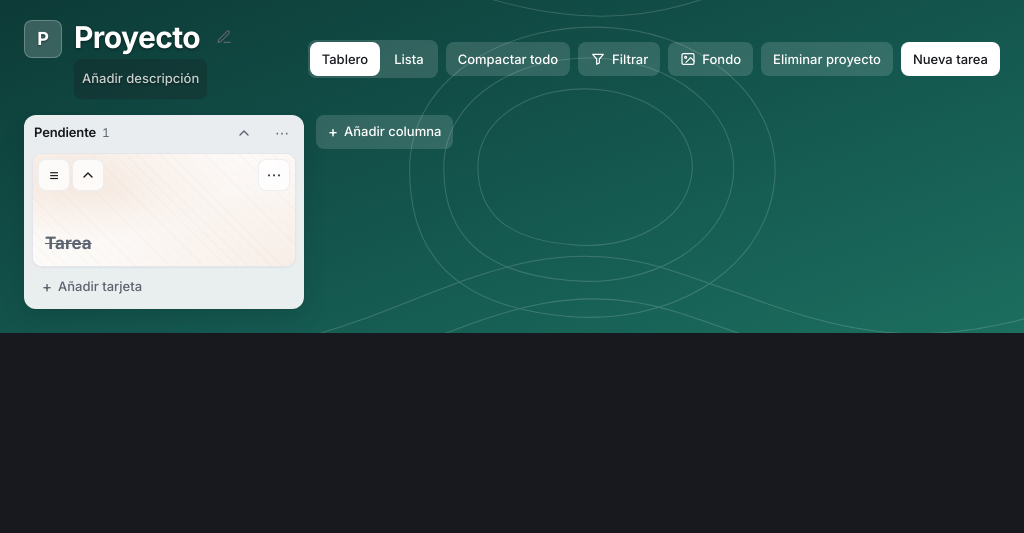
Scenario: ProyectoDetalle › muestra el error al borrar una columna con tareas
Click the button named "opciones de la columna pendiente": (282, 132) [266, 116, 298, 148]
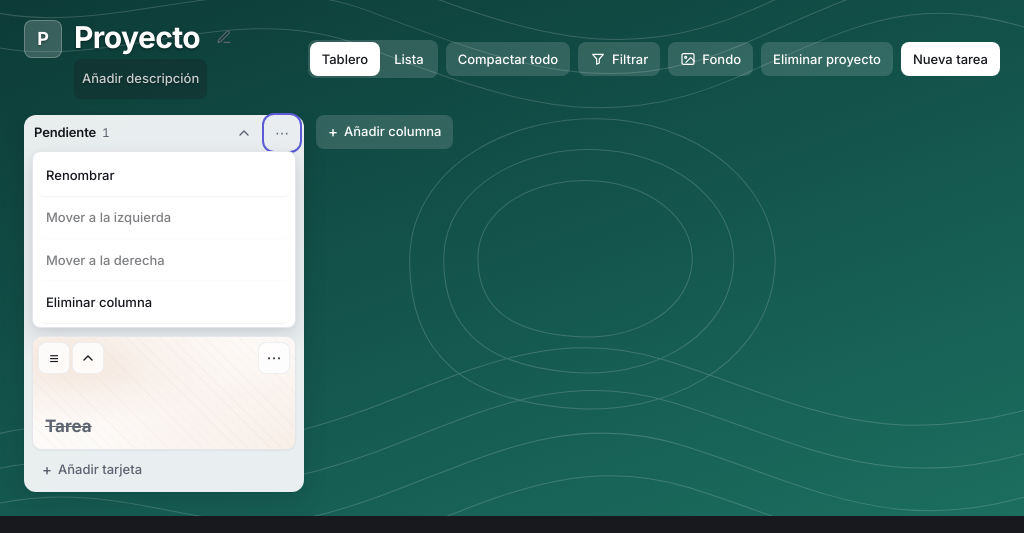
Click the menu item "Eliminar columna": (164, 303) [37, 283, 291, 323]
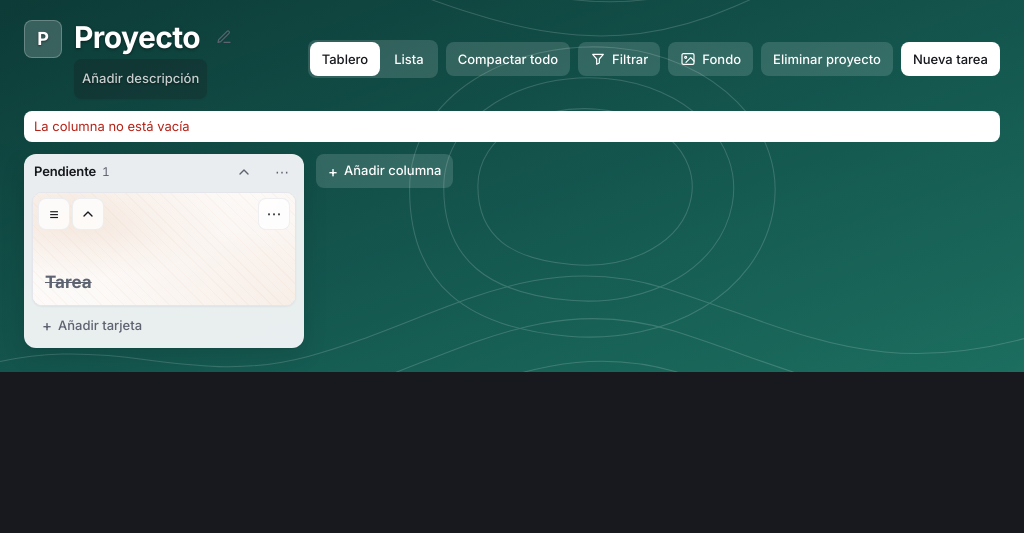
Now the text "La columna no está vacía" is shown, box [24, 110, 1000, 142]
